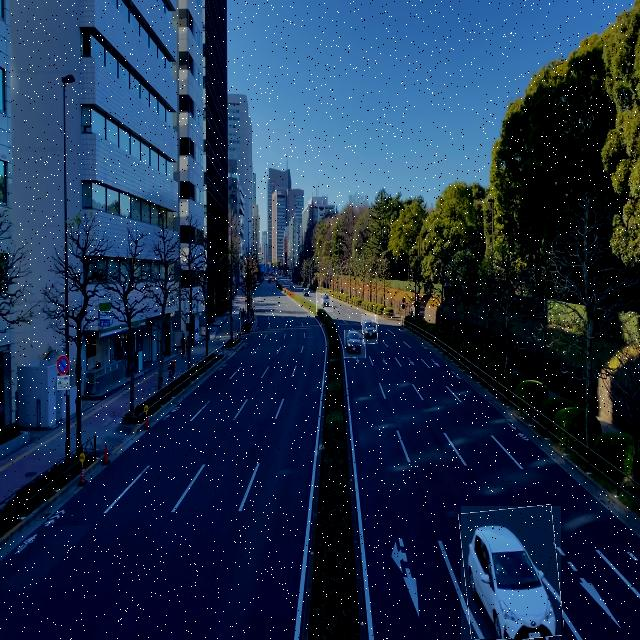Car: (461, 506, 561, 640), (344, 331, 366, 358), (362, 314, 378, 344), (316, 290, 333, 312)
